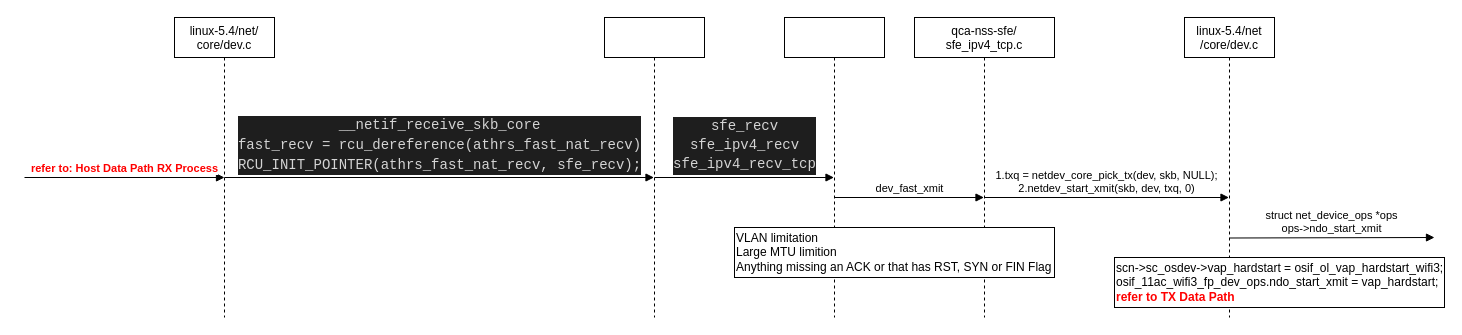
Some shapes in this 1462 by 335 pixel diagram are drawn without their labels. The shapes that lost their labels are listed below. From the top down, each one's box as (x1, y1, x2, y2) in pixels, then its label:
(604, 16, 704, 318): sfe.c
(784, 16, 884, 318): sfe_ipv4.c
